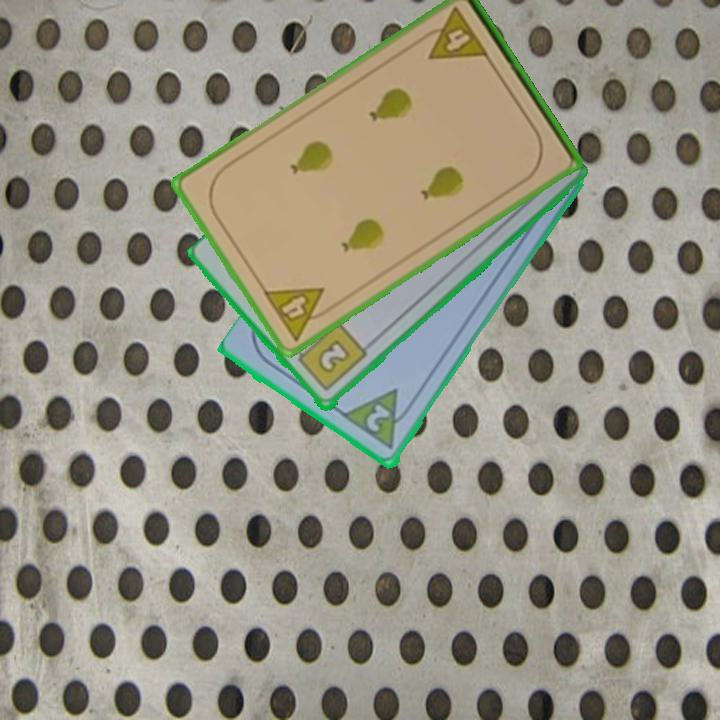2b: (290, 319, 370, 395)
2p: (362, 401, 394, 436)
4p: (259, 284, 338, 344), (415, 4, 492, 64)
